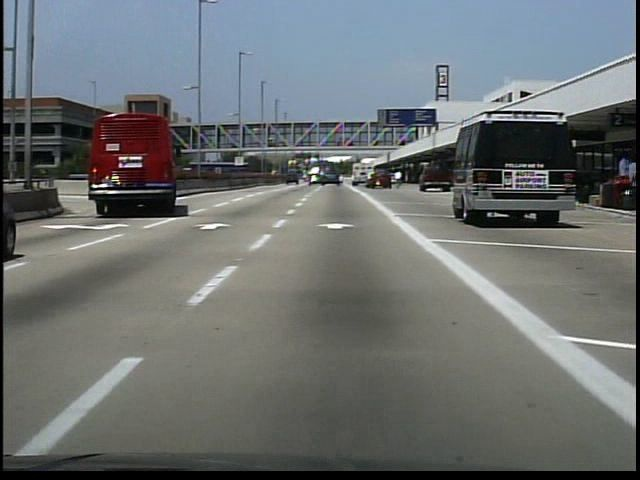person: (391, 169, 405, 191)
